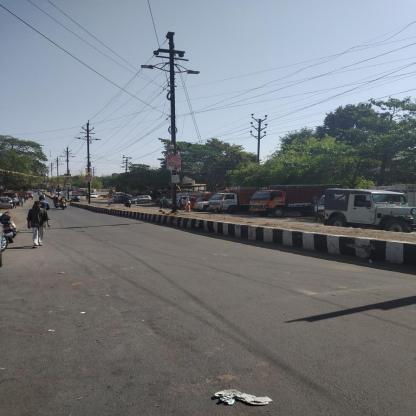Electrical Pole: (142, 26, 206, 215)
